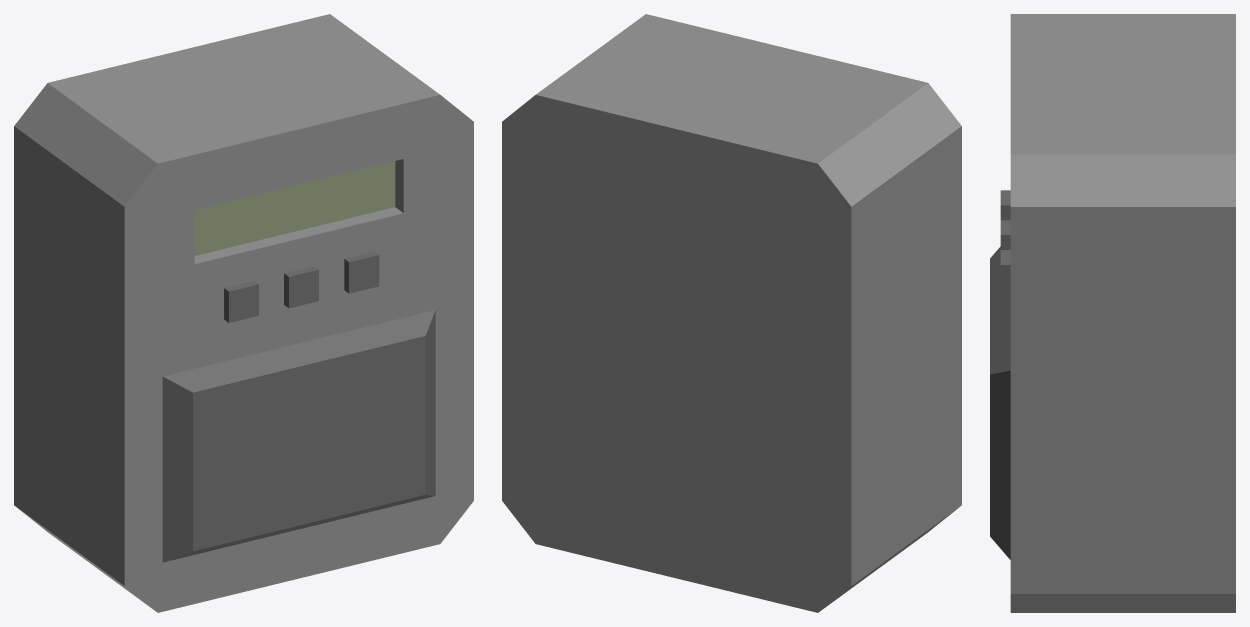
The model's file is SM_BuildingsDecor_11.fbx.
3 renders of one model, left to right at view 1: azimuth 30°, elevation 25°; view 2: azimuth 150°, elevation 25°; view 3: azimuth 270°, elevation 25°, orthographic. The views are drawn at different scales.
Visible parts, largest first — view 1: SM_BuildingsDecor_11; view 2: SM_BuildingsDecor_11; view 3: SM_BuildingsDecor_11.
Part boxes in pixels (left/top/right/bottom): SM_BuildingsDecor_11: left=14, top=14, right=473, bottom=612; SM_BuildingsDecor_11: left=502, top=14, right=961, bottom=612; SM_BuildingsDecor_11: left=990, top=14, right=1235, bottom=612.
Size of the model in its own units: 0.2769 by 0.3403 by 0.1654.
